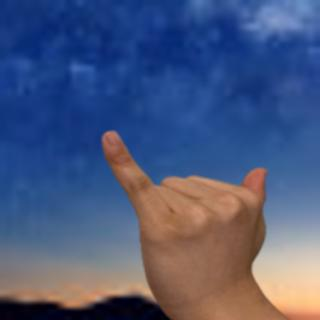HAVE: (92, 122, 279, 309)
